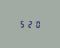five: (18, 19, 24, 27)
two: (26, 19, 32, 28)
zero: (33, 20, 39, 28)
